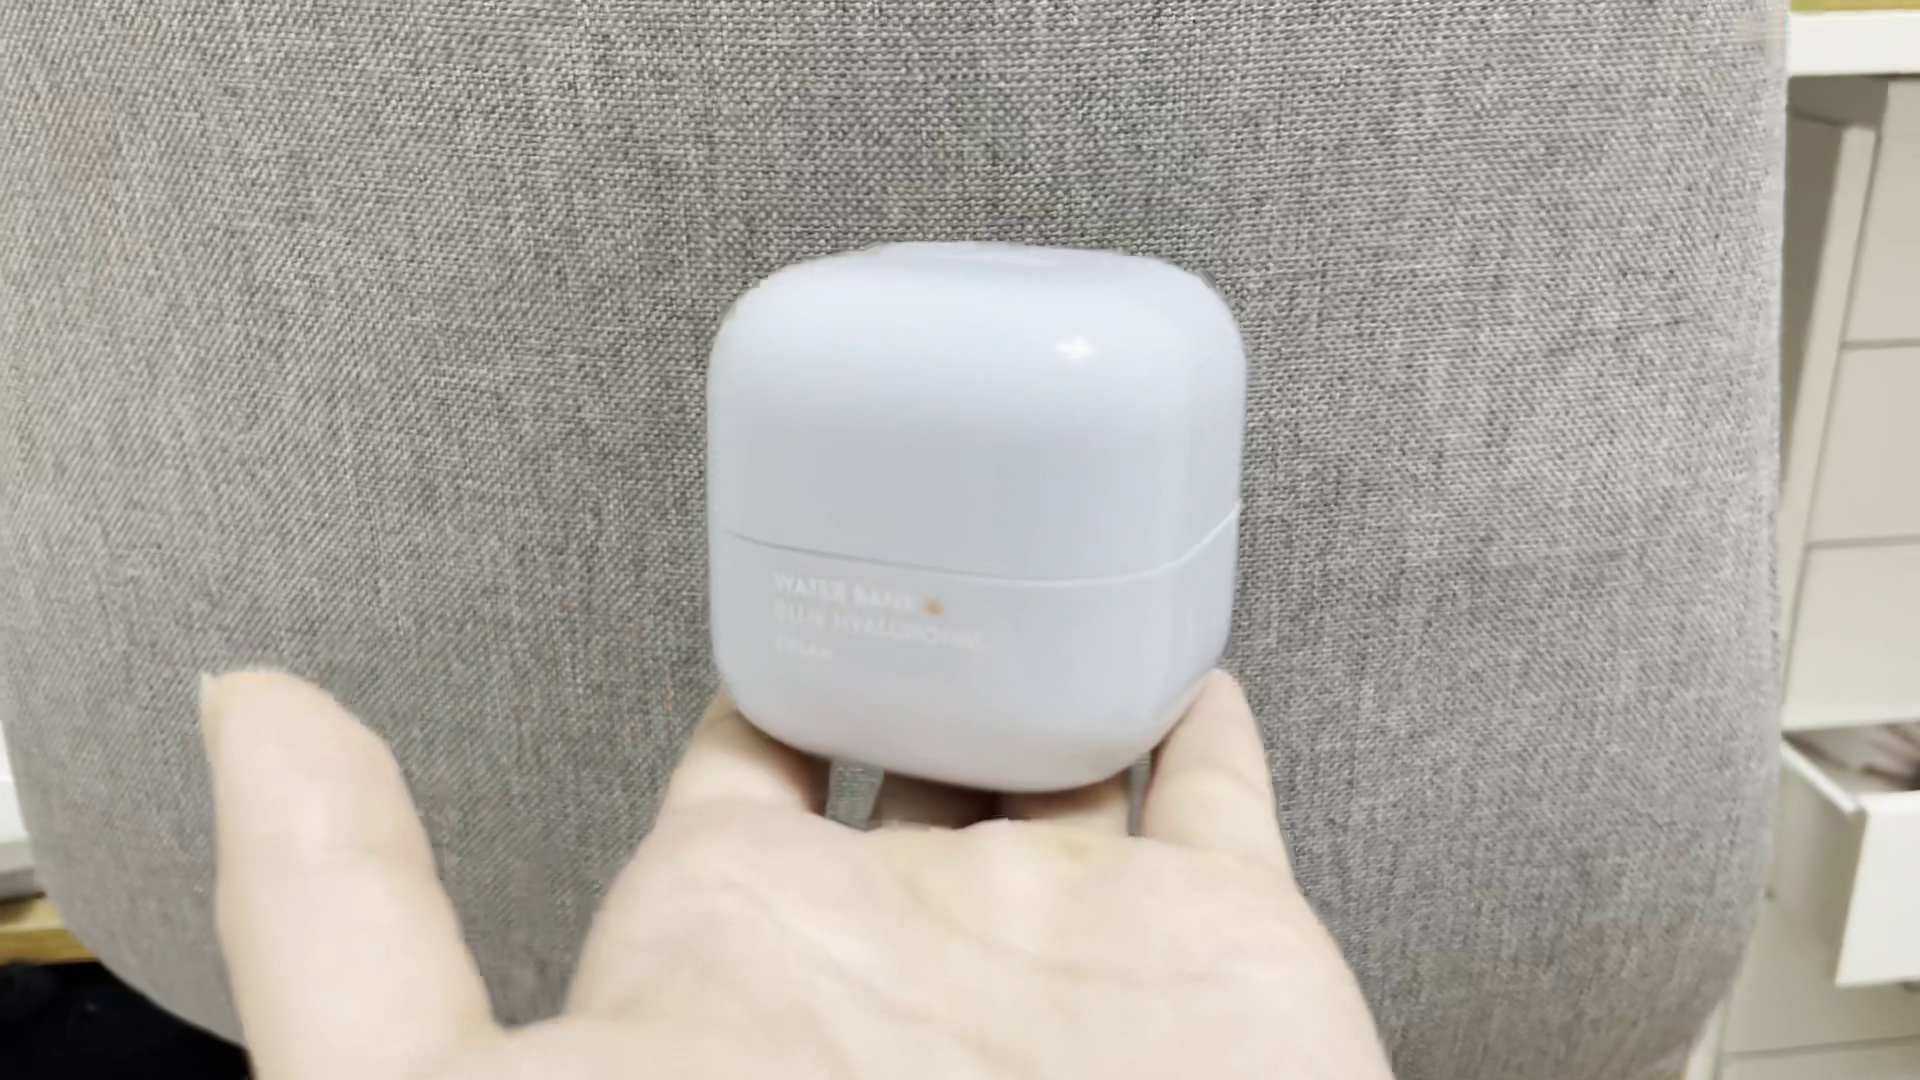cream: (700, 244, 1240, 782)
